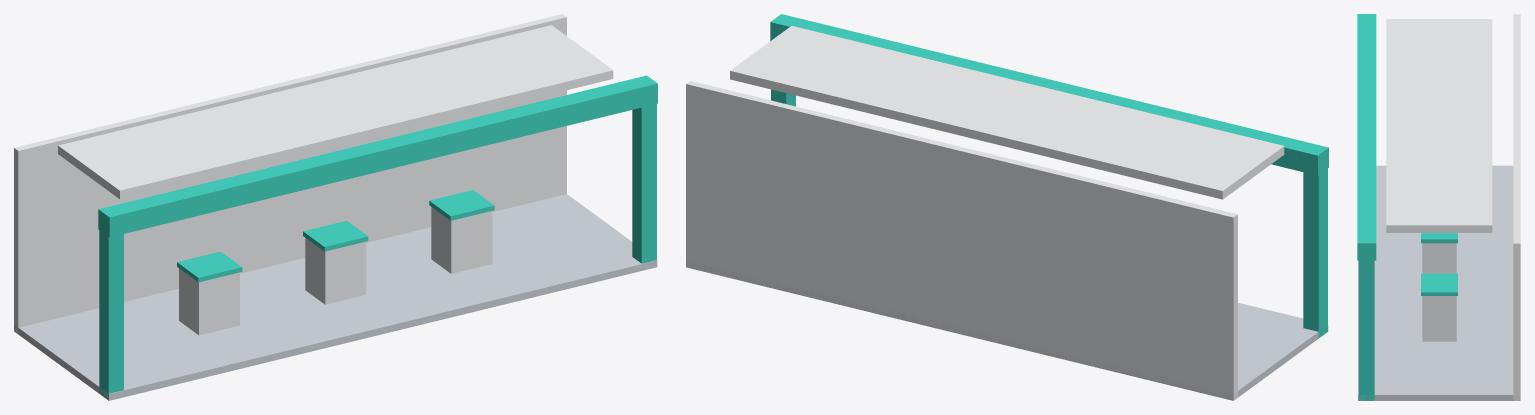
3 renders of one model, left to right at view 1: azimuth 30°, elevation 25°; view 2: azimuth 150°, elevation 25°; view 3: azimuth 270°, elevation 25°, orthographic. The views are drawn at different scales.
Visible parts, largest first — view 1: Exhibition Booth Concept; view 2: Exhibition Booth Concept; view 3: Exhibition Booth Concept.
Part boxes in pixels (box(x1,y1,x2,y2)): Exhibition Booth Concept: box(14, 14, 657, 400); Exhibition Booth Concept: box(686, 14, 1328, 400); Exhibition Booth Concept: box(1357, 14, 1520, 400).
Bounding box in the file's own units: 10 × 3.34 × 3.01.
